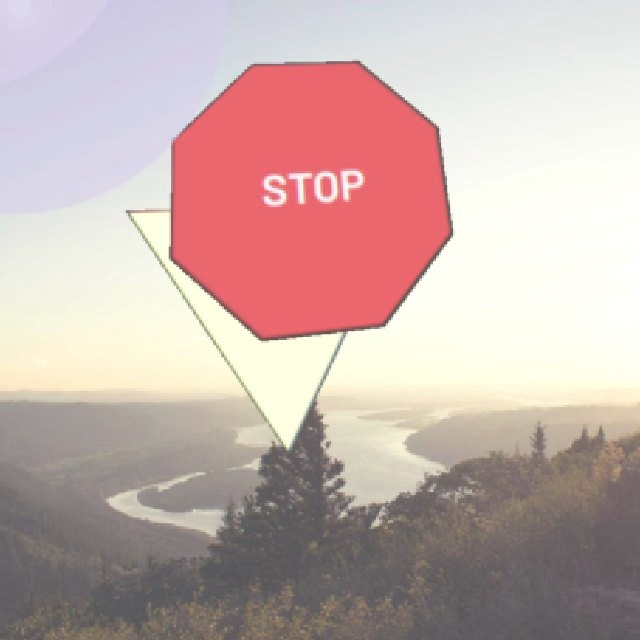NOT_YIELD: (124, 196, 408, 453)
STOP: (168, 59, 452, 340)
